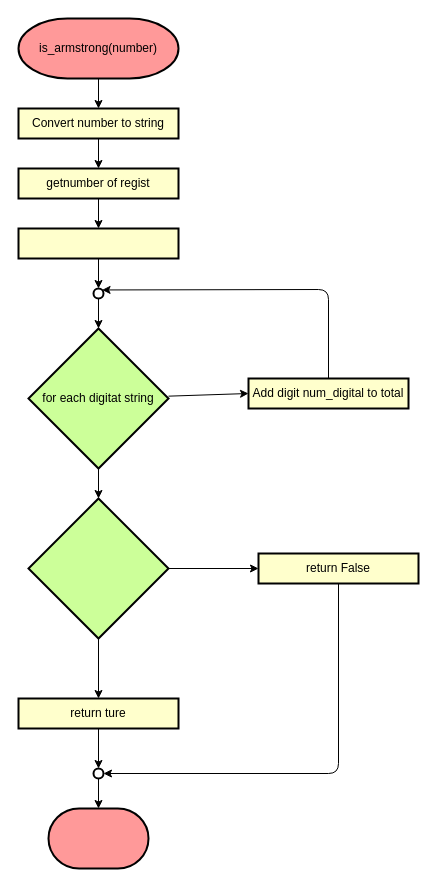
Some shapes in this 436 by 886 pixel diagram are drawn without their labels. Here are the shapes that lost their labels. From the top down, the centre of each, then its label:
At pixel 98 243: "initialize total to 0".
At pixel 98 568: "is total equal number".
At pixel 98 838: "stop".
